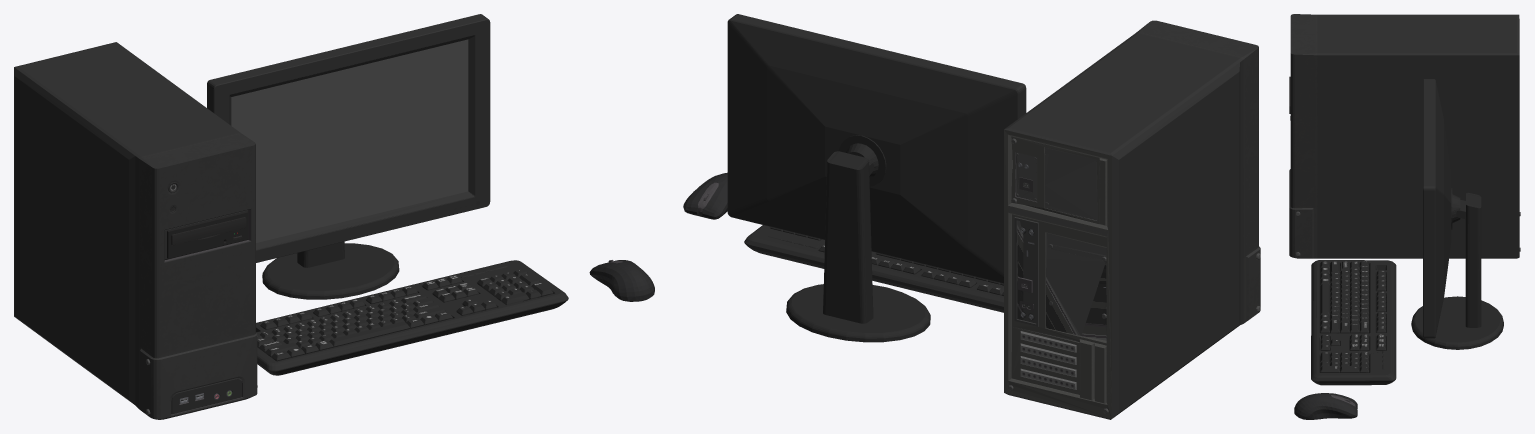
File: DesktopPC.obj
3 renders of one model, left to right at view 1: azimuth 30°, elevation 25°; view 2: azimuth 150°, elevation 25°; view 3: azimuth 270°, elevation 25°, orthographic. The views are drawn at different scales.
Visible parts, largest first — view 1: Object.3, Object.1; view 2: Object.3; view 3: Object.3.
Part boxes in pixels (x1,y1,x2,y2): Object.3: [14, 14, 654, 419]; Object.1: [171, 217, 246, 245]; Object.3: [683, 14, 1260, 419]; Object.3: [1289, 14, 1520, 419].
Size of the model in its own units: 1225 by 578 by 591.
Materials: 3 (1 with a texture image).
